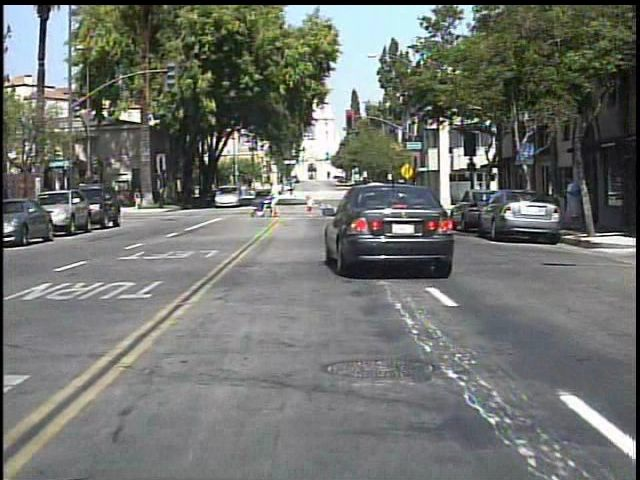person: (558, 172, 580, 235), (268, 179, 285, 220), (155, 183, 169, 211), (132, 186, 143, 213)
